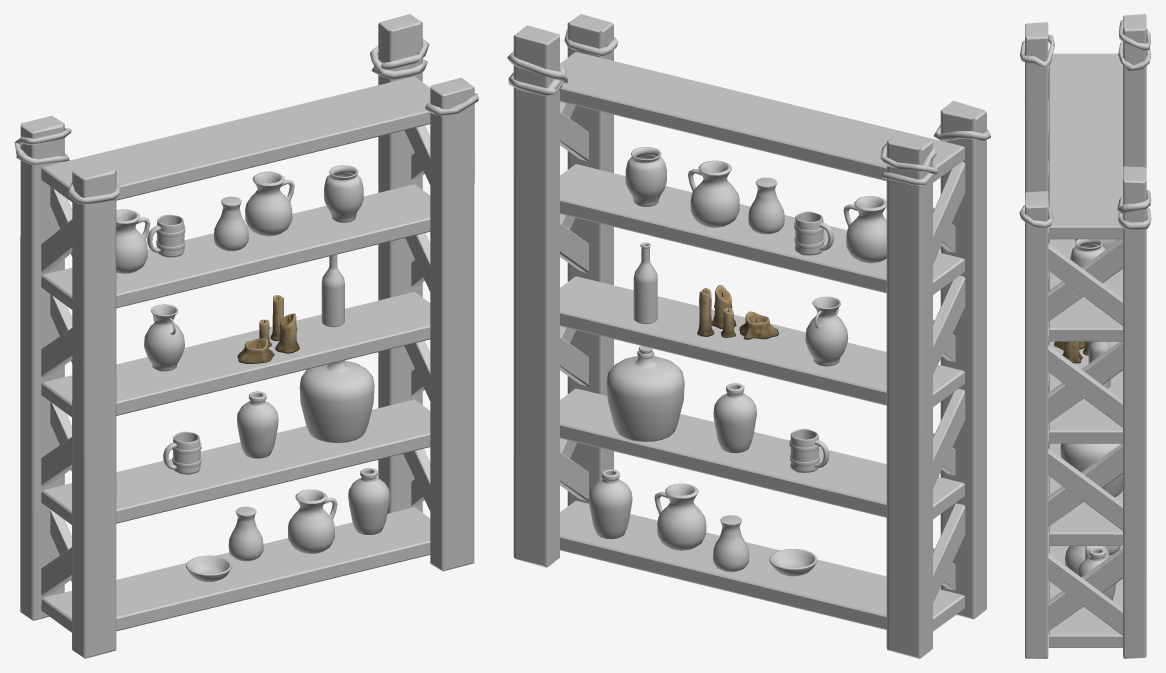
The model's file is SM_Bookshelf.fbx.
3 renders of one model, left to right at view 1: azimuth 30°, elevation 25°; view 2: azimuth 150°, elevation 25°; view 3: azimuth 270°, elevation 25°, orthographic. The views are drawn at different scales.
Visible parts, largest first — view 1: SM_Bookshelf_LOD0; view 2: SM_Bookshelf_LOD0; view 3: SM_Bookshelf_LOD0.
Boxes of the visible parts, x1,y1,x2,y2 form: SM_Bookshelf_LOD0: (14,14,478,658); SM_Bookshelf_LOD0: (507,14,990,658); SM_Bookshelf_LOD0: (1019,14,1151,658).
Size of the model in its own units: 230 by 67.65 by 272.
3 materials, 1 textured.
